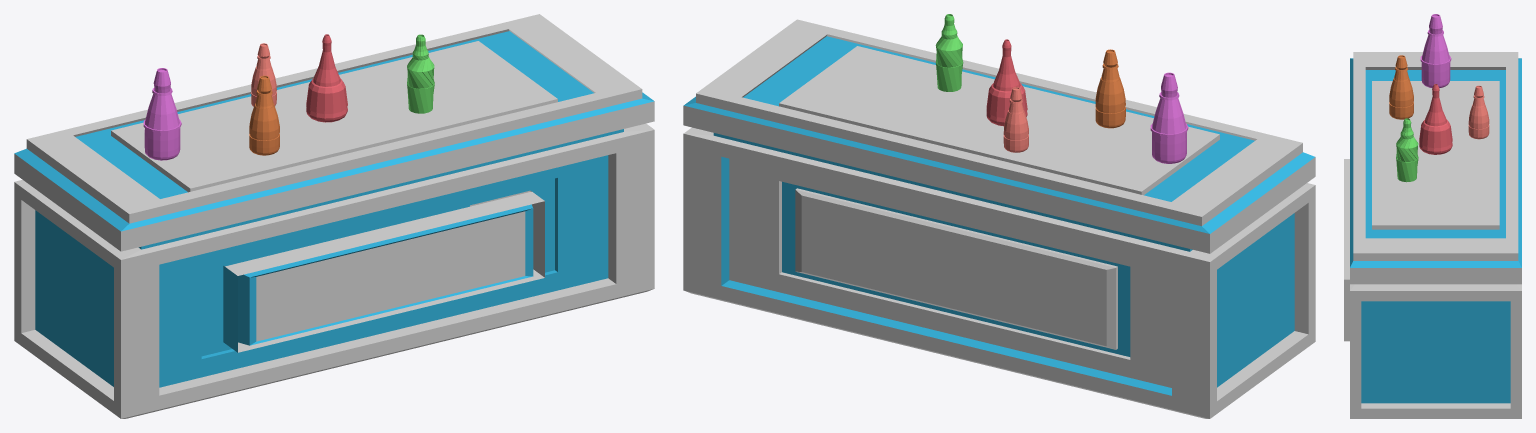
Rendered from Bar Stand.fbx.
The picture shows the model from 3 angles, left to right: view 1: azimuth 30°, elevation 25°; view 2: azimuth 150°, elevation 25°; view 3: azimuth 270°, elevation 25°; orthographic projection. The views are drawn at different scales.
Parts seen in each view (by area): view 1: Cube, Cylinder, Cylinder.001, Cylinder.004, Cylinder.003, Cylinder.002; view 2: Cube, Cylinder, Cylinder.004, Cylinder.001, Cylinder.003, Cylinder.002; view 3: Cube, Cylinder, Cylinder.001, Cylinder.004, Cylinder.003, Cylinder.002.
Part boxes in pixels (bbox=[...]): Cube: bbox=[14, 14, 654, 418]; Cylinder: bbox=[143, 68, 181, 160]; Cylinder.001: bbox=[306, 34, 347, 122]; Cylinder.004: bbox=[249, 75, 279, 155]; Cylinder.003: bbox=[407, 34, 434, 113]; Cylinder.002: bbox=[251, 43, 276, 106]; Cube: bbox=[683, 19, 1315, 418]; Cylinder: bbox=[1150, 72, 1188, 163]; Cylinder.004: bbox=[1095, 49, 1125, 128]; Cylinder.001: bbox=[986, 39, 1027, 126]; Cylinder.003: bbox=[935, 14, 963, 91]; Cylinder.002: bbox=[1003, 87, 1028, 152]; Cube: bbox=[1344, 52, 1521, 418]; Cylinder: bbox=[1420, 14, 1451, 88]; Cylinder.001: bbox=[1419, 84, 1452, 154]; Cylinder.004: bbox=[1389, 55, 1413, 119]; Cylinder.003: bbox=[1396, 118, 1418, 182]; Cylinder.002: bbox=[1468, 85, 1489, 139].
Bounding box in the file's own units: 650 × 336 × 233.
